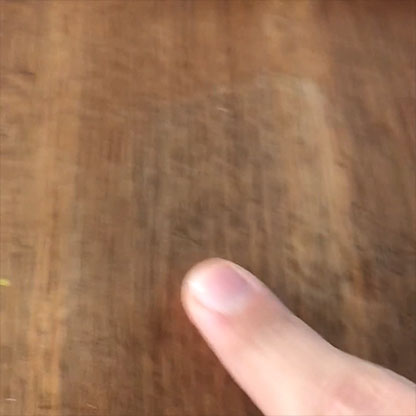fingertip: (165, 239, 287, 352)
